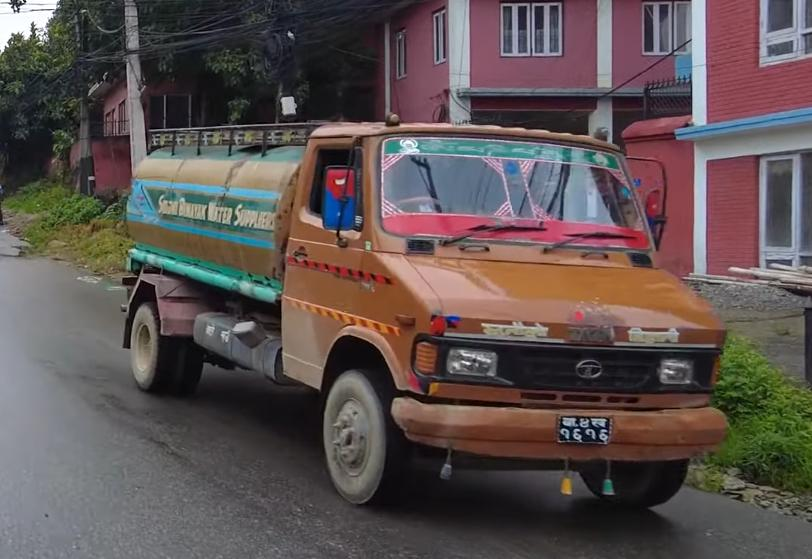mini_truck: (117, 97, 734, 511)
